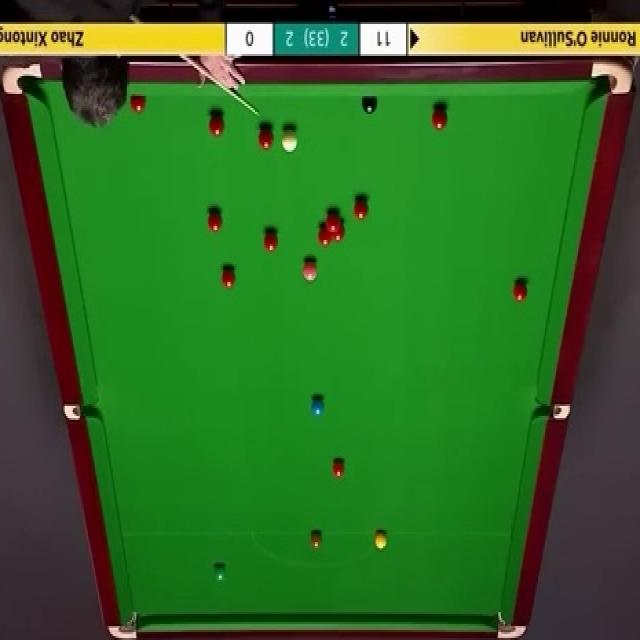black-ball: (360, 94, 378, 115)
blue-ball: (310, 396, 325, 416)
brown-ball: (310, 532, 322, 552)
green-ball: (214, 562, 228, 584)
pink-ball: (301, 256, 318, 281)
red-ball: (352, 194, 370, 222), (264, 229, 282, 255), (432, 105, 449, 132), (220, 265, 236, 291), (258, 124, 274, 150), (208, 113, 226, 136), (209, 205, 223, 232), (331, 457, 347, 480), (513, 278, 528, 302), (332, 218, 346, 242), (130, 95, 146, 115), (318, 222, 331, 246), (324, 210, 340, 229)
white-ball: (282, 121, 298, 156)
yellow-ball: (374, 531, 388, 549)
